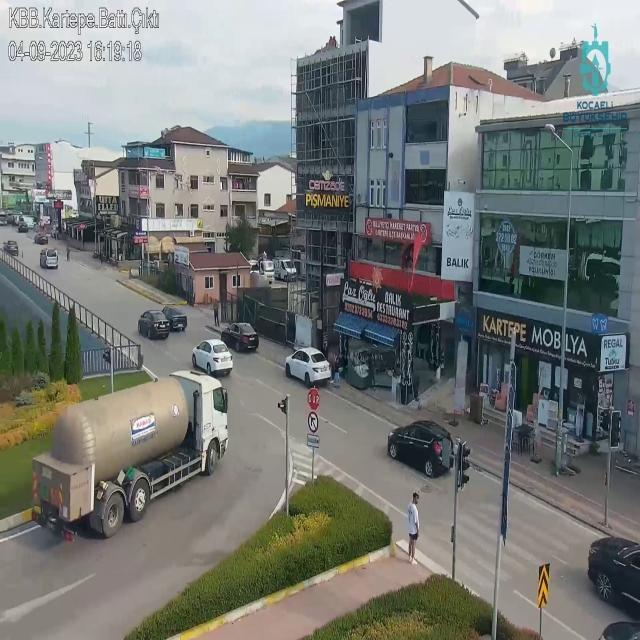Car: (386, 421, 454, 476), (284, 346, 332, 384), (190, 339, 235, 376), (137, 308, 169, 340), (220, 321, 253, 352), (160, 307, 189, 332)
Truck: (31, 364, 232, 540)
Van: (40, 249, 60, 268)
